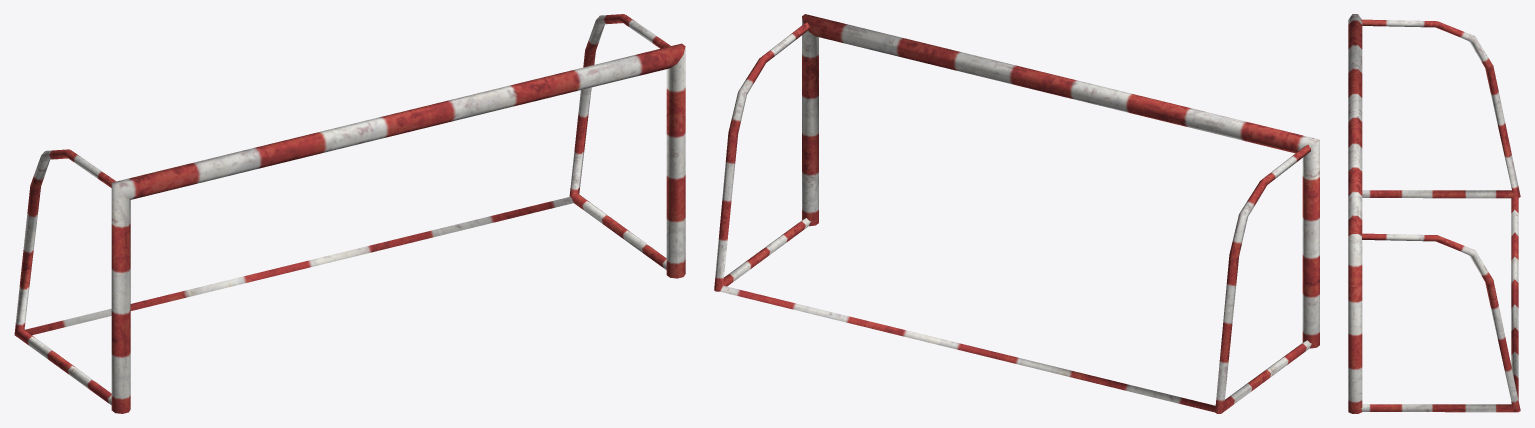
File: urban_goal.fbx
The picture shows the model from 3 angles, left to right: view 1: azimuth 30°, elevation 25°; view 2: azimuth 150°, elevation 25°; view 3: azimuth 270°, elevation 25°; orthographic projection. The views are drawn at different scales.
Visible parts, largest first — view 1: Cube_048; view 2: Cube_048; view 3: Cube_048.
Part boxes in pixels (x1,y1,x2,y2): Cube_048: [14, 14, 685, 413]; Cube_048: [714, 14, 1319, 413]; Cube_048: [1348, 14, 1520, 413].
Size of the model in its own units: 5.96 by 2.28 by 1.98.
